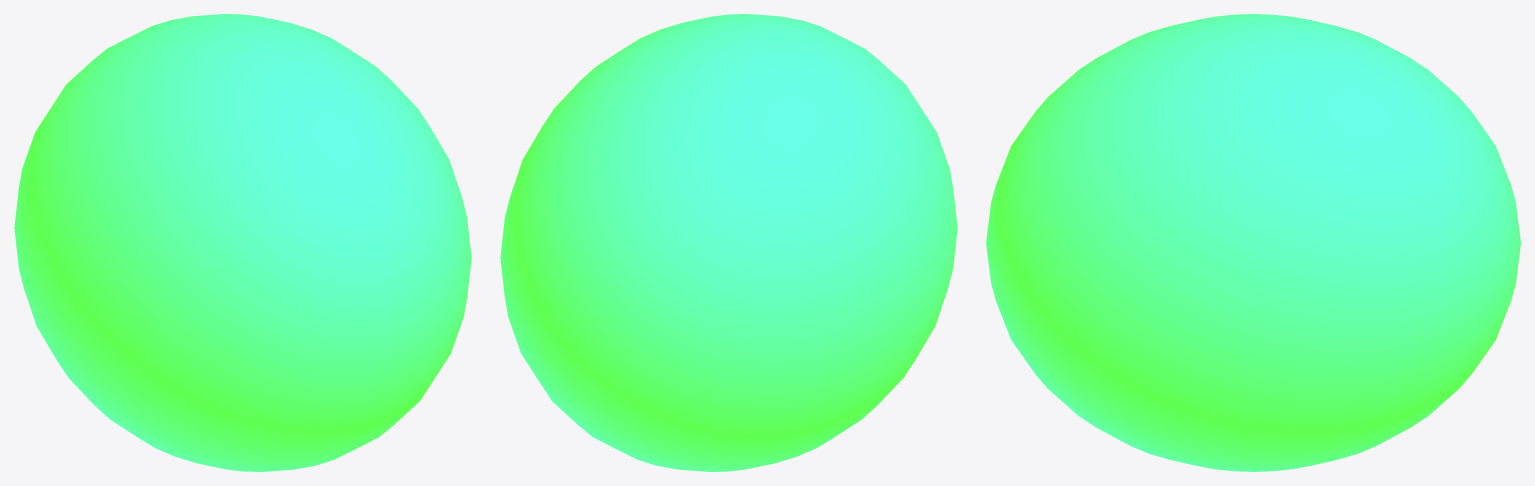
File: Automatic.fbx
3 renders of one model, left to right at view 1: azimuth 30°, elevation 25°; view 2: azimuth 150°, elevation 25°; view 3: azimuth 270°, elevation 25°, orthographic. The views are drawn at different scales.
Parts seen in each view (by area): view 1: Sphere; view 2: Sphere; view 3: Sphere.
Boxes of the visible parts, x1=… form: Sphere: x1=14, y1=14, x2=471, y2=471; Sphere: x1=500, y1=14, x2=957, y2=471; Sphere: x1=986, y1=14, x2=1520, y2=471.
Size of the model in its own units: 108 by 112 by 130.
